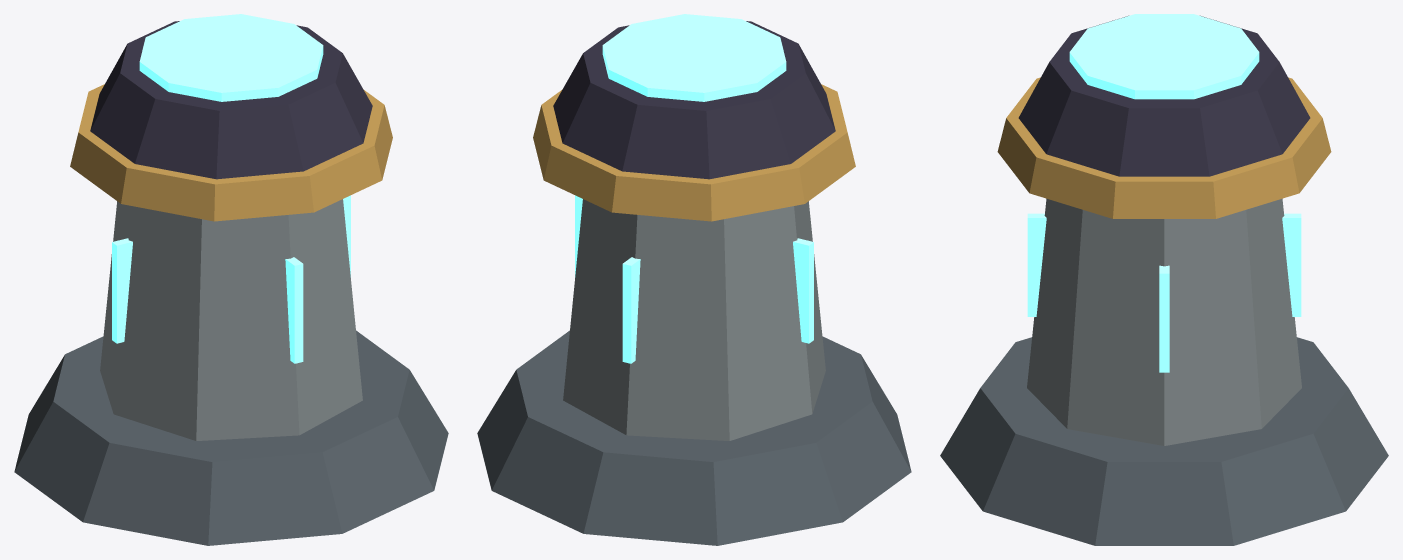
The model's file is wellspring_ritual_pedestal.glb.
The picture shows the model from 3 angles, left to right: view 1: azimuth 30°, elevation 25°; view 2: azimuth 150°, elevation 25°; view 3: azimuth 270°, elevation 25°; orthographic projection.
Parts seen in each view (by area): view 1: Ritual_Pedestal_Foot, Ritual_Pedestal_Shaft, Ritual_Pedestal_Bowl, Ritual_Pedestal_Collar, Ritual_Pedestal_Light, Ritual_Pedestal_Rune_3, Ritual_Pedestal_Rune_4; view 2: Ritual_Pedestal_Foot, Ritual_Pedestal_Shaft, Ritual_Pedestal_Bowl, Ritual_Pedestal_Collar, Ritual_Pedestal_Light, Ritual_Pedestal_Rune_3, Ritual_Pedestal_Rune_2; view 3: Ritual_Pedestal_Shaft, Ritual_Pedestal_Foot, Ritual_Pedestal_Bowl, Ritual_Pedestal_Collar, Ritual_Pedestal_Light, Ritual_Pedestal_Rune_2, Ritual_Pedestal_Rune_4, Ritual_Pedestal_Rune_1.
Part boxes in pixels (left/top/right/bottom): Ritual_Pedestal_Foot: left=14, top=330, right=448, bottom=545; Ritual_Pedestal_Shaft: left=100, top=199, right=362, bottom=440; Ritual_Pedestal_Bowl: left=90, top=21, right=372, bottom=179; Ritual_Pedestal_Collar: left=70, top=84, right=392, bottom=221; Ritual_Pedestal_Light: left=139, top=14, right=323, bottom=101; Ritual_Pedestal_Rune_3: left=112, top=238, right=132, bottom=343; Ritual_Pedestal_Rune_4: left=285, top=257, right=303, bottom=363; Ritual_Pedestal_Foot: left=477, top=330, right=911, bottom=545; Ritual_Pedestal_Shaft: left=563, top=199, right=825, bottom=440; Ritual_Pedestal_Bowl: left=553, top=21, right=835, bottom=179; Ritual_Pedestal_Collar: left=533, top=84, right=855, bottom=221; Ritual_Pedestal_Light: left=602, top=14, right=786, bottom=101; Ritual_Pedestal_Rune_3: left=793, top=238, right=813, bottom=343; Ritual_Pedestal_Rune_2: left=622, top=257, right=640, bottom=363; Ritual_Pedestal_Shaft: left=1027, top=198, right=1301, bottom=445; Ritual_Pedestal_Foot: left=940, top=337, right=1388, bottom=545; Ritual_Pedestal_Bowl: left=1018, top=15, right=1310, bottom=176; Ritual_Pedestal_Collar: left=997, top=77, right=1331, bottom=218; Ritual_Pedestal_Light: left=1069, top=14, right=1259, bottom=99; Ritual_Pedestal_Rune_2: left=1282, top=213, right=1301, bottom=316; Ritual_Pedestal_Rune_4: left=1027, top=213, right=1046, bottom=316; Ritual_Pedestal_Rune_1: left=1159, top=265, right=1169, bottom=372.
Size of the model in its own units: 1.48 by 1.55 by 1.56.
